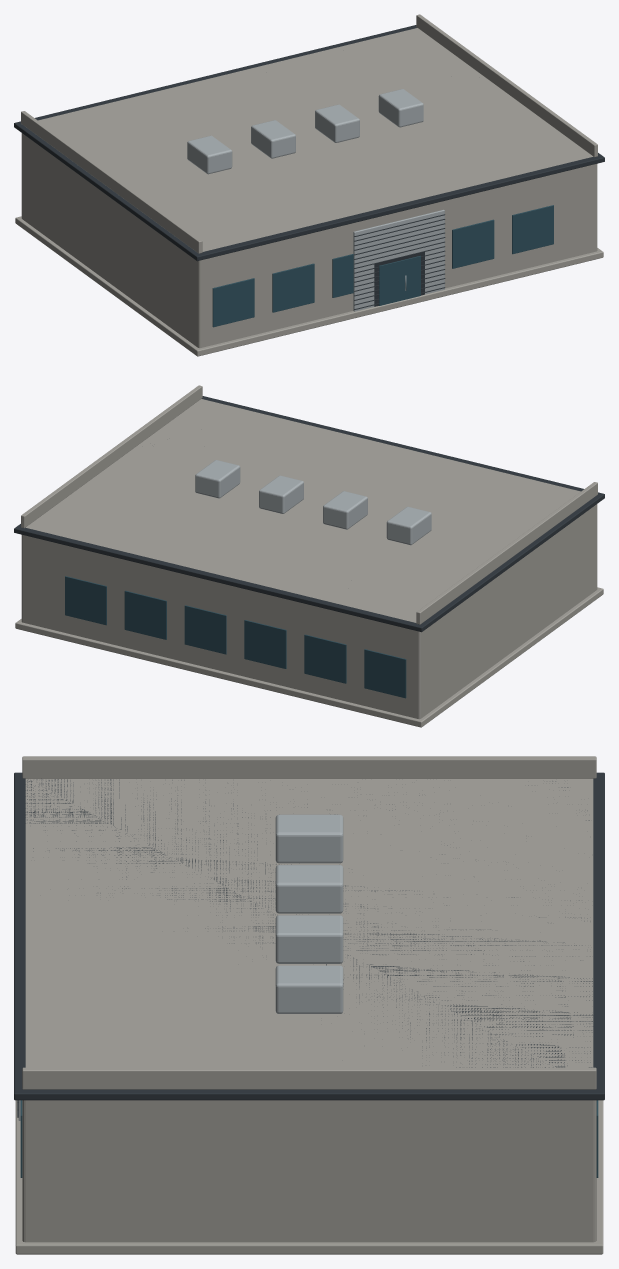
File: SM_Shop.fbx
3 renders of one model, top to bottom at view 1: azimuth 30°, elevation 25°; view 2: azimuth 150°, elevation 25°; view 3: azimuth 270°, elevation 25°, orthographic. The views are drawn at different scales.
Parts seen in each view (by area): view 1: SM_Shop; view 2: SM_Shop; view 3: SM_Shop.
Part boxes in pixels (bbox=[...]): SM_Shop: bbox=[14, 14, 604, 356]; SM_Shop: bbox=[14, 385, 604, 727]; SM_Shop: bbox=[14, 756, 604, 1254].
Bounding box in the file's own units: 2250 × 1750 × 630.
